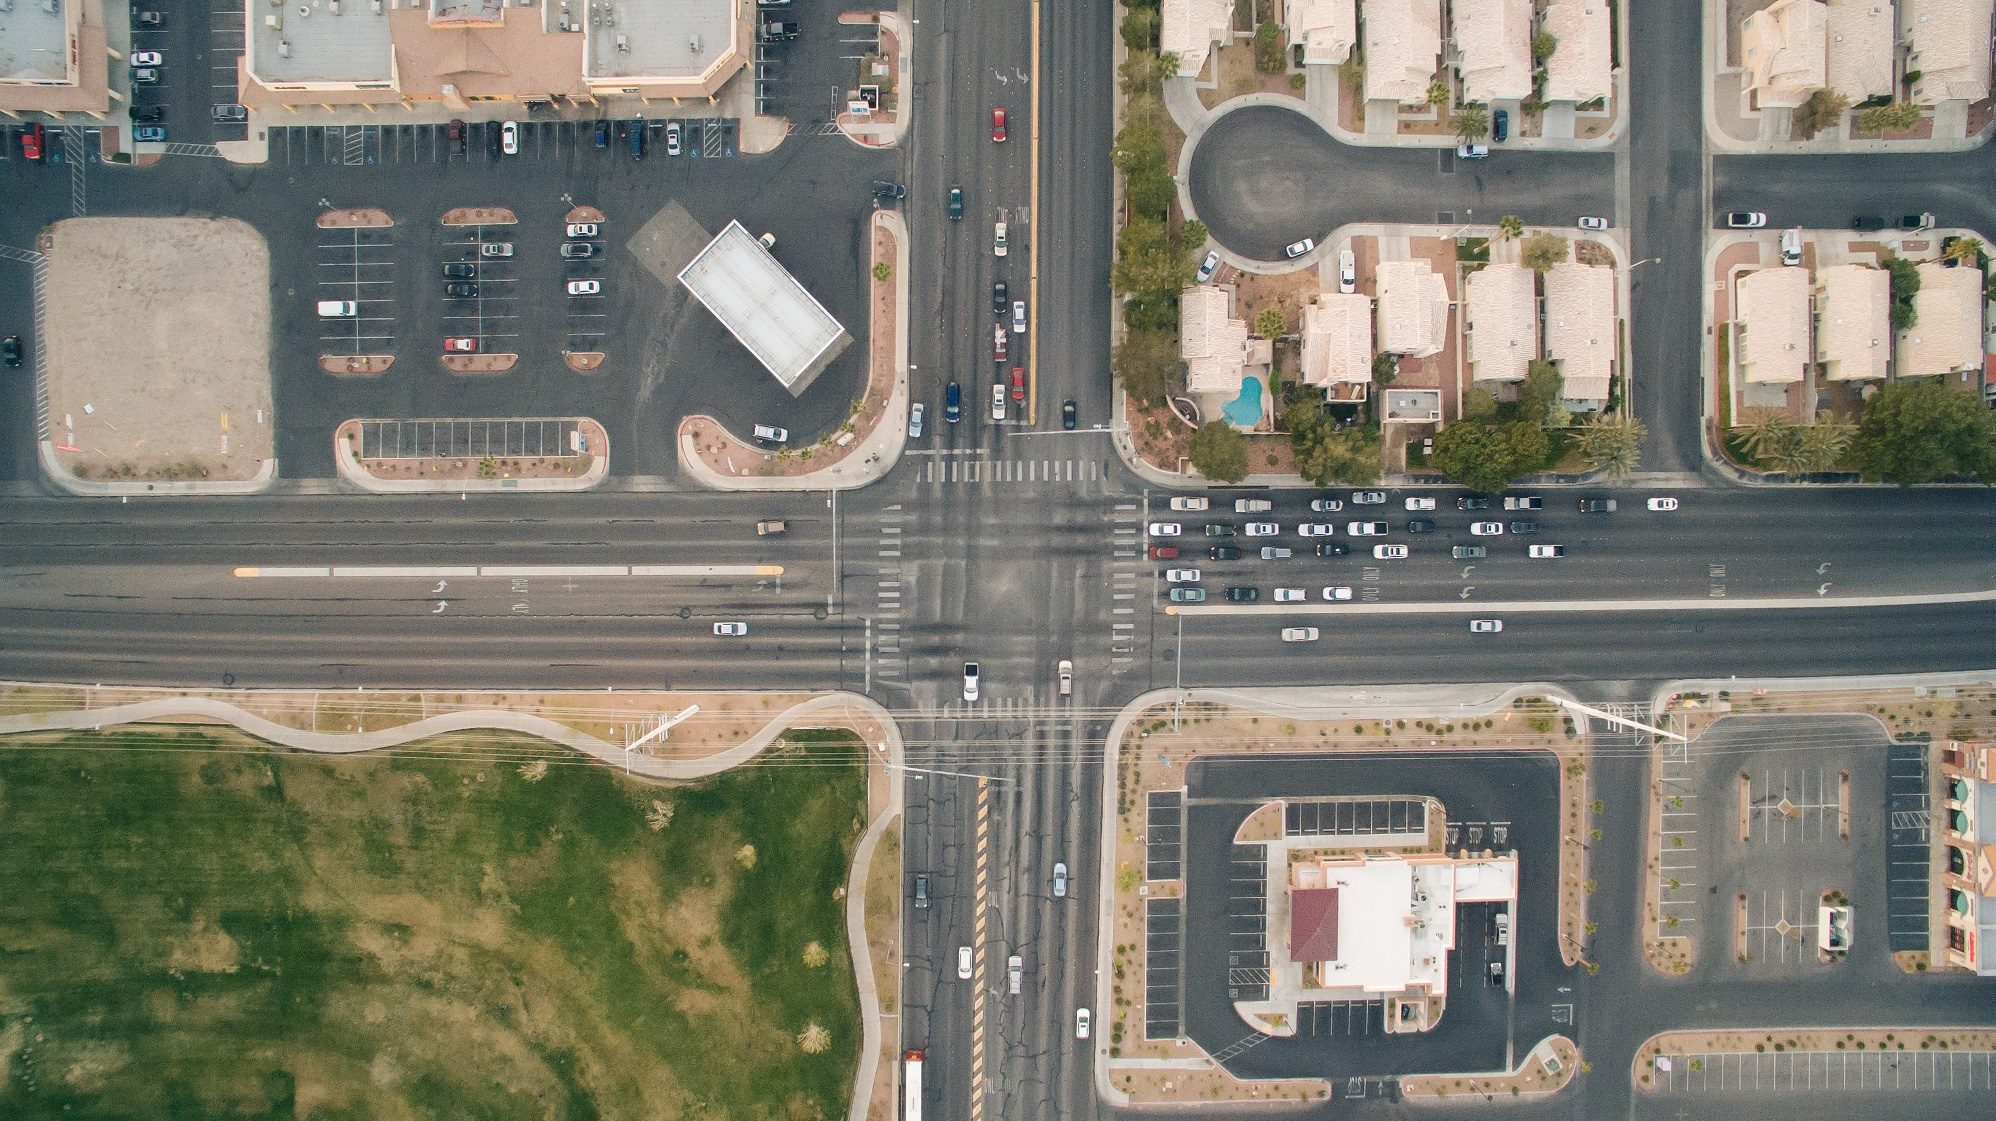Vehicle: (903, 1048, 925, 1121), (21, 122, 48, 160), (314, 297, 358, 321), (757, 21, 802, 42), (1778, 227, 1801, 266), (446, 118, 467, 158), (960, 661, 980, 702), (1168, 493, 1209, 514), (750, 422, 788, 444), (1345, 519, 1389, 539), (1501, 493, 1542, 513), (1194, 249, 1217, 282), (871, 180, 908, 200), (1338, 249, 1356, 292), (711, 619, 748, 639), (1727, 210, 1767, 227), (1, 334, 22, 369), (480, 240, 514, 260), (943, 382, 960, 425), (1008, 955, 1024, 998), (1279, 625, 1322, 641), (126, 104, 165, 122), (1371, 543, 1409, 560), (1490, 911, 1509, 947), (499, 121, 520, 153), (1527, 543, 1564, 560), (1243, 521, 1280, 539), (1455, 493, 1492, 511), (130, 123, 165, 143), (566, 278, 600, 297), (946, 182, 962, 222), (988, 382, 1005, 422), (1578, 497, 1618, 514), (127, 10, 163, 27), (208, 103, 244, 121), (908, 403, 925, 439), (1057, 659, 1073, 698), (1234, 496, 1272, 513), (1163, 567, 1201, 584), (1168, 587, 1206, 603), (1295, 521, 1334, 537), (483, 121, 500, 155), (558, 243, 592, 260), (664, 122, 681, 156), (1010, 300, 1028, 334), (1147, 519, 1182, 537), (1468, 617, 1502, 635), (626, 122, 643, 159), (991, 107, 1008, 144), (913, 872, 929, 909), (1051, 861, 1068, 898), (1450, 544, 1487, 560), (443, 260, 476, 278), (991, 280, 1008, 315), (755, 518, 788, 536), (956, 946, 973, 978), (1457, 143, 1490, 160), (1350, 489, 1386, 506), (563, 222, 598, 238), (1075, 1007, 1091, 1042), (1492, 108, 1508, 143), (1468, 519, 1502, 536), (129, 49, 160, 67), (441, 282, 478, 297), (993, 221, 1008, 258), (1224, 587, 1261, 602), (1285, 238, 1313, 258), (1208, 545, 1241, 562), (1402, 495, 1435, 511), (1315, 541, 1350, 556), (1577, 215, 1608, 232), (1322, 585, 1353, 602), (1010, 367, 1025, 402), (1274, 587, 1308, 602), (1899, 214, 1936, 227), (127, 67, 158, 84), (1062, 399, 1078, 432), (1646, 497, 1679, 513), (1509, 519, 1539, 536), (1147, 545, 1180, 560), (1309, 497, 1342, 513), (1258, 545, 1291, 560), (1407, 519, 1437, 534), (1204, 523, 1237, 537), (594, 121, 609, 149), (443, 338, 474, 352), (1487, 961, 1502, 988)
